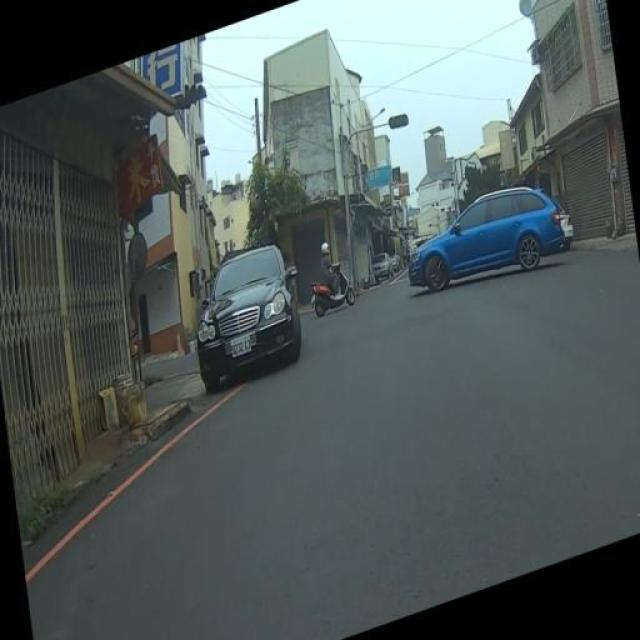illegalparking: (180, 239, 310, 410)
